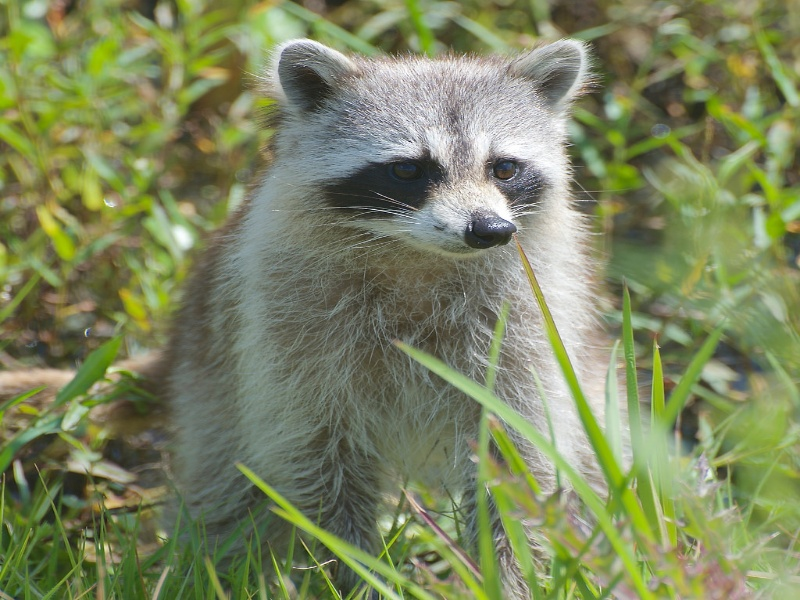raccoon: (167, 37, 655, 542)
